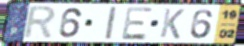6: (58, 6, 83, 39), (190, 8, 214, 40)
E: (121, 6, 155, 41)
I: (104, 6, 119, 41)
K: (159, 7, 187, 40)
R: (21, 5, 58, 41)
